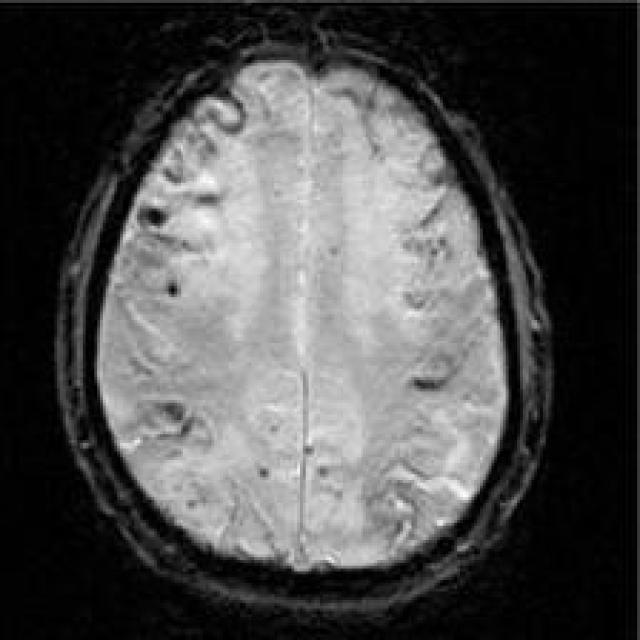no_tumor: (51, 16, 559, 636)
